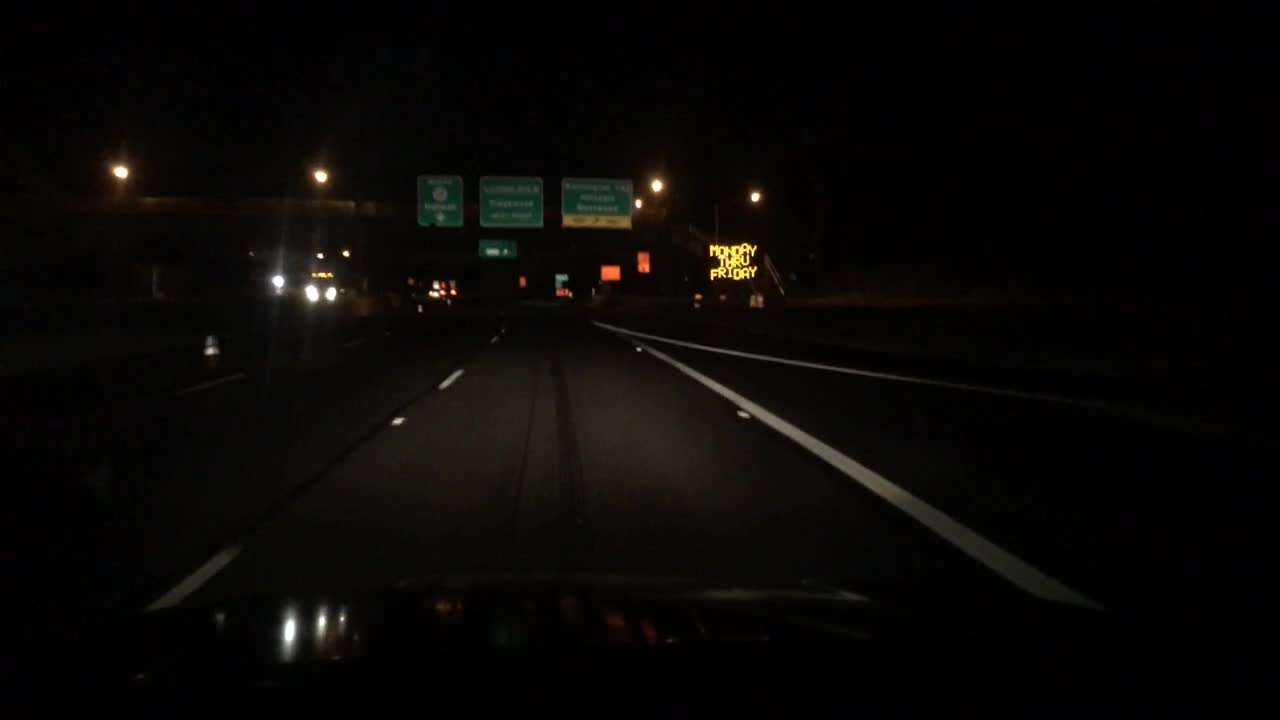car: (425, 281, 459, 306), (267, 271, 287, 291)
traffic sign: (561, 177, 632, 229), (479, 174, 540, 226), (416, 174, 459, 226), (477, 239, 512, 255), (636, 249, 649, 274), (600, 263, 619, 280), (554, 274, 567, 295), (517, 275, 528, 288)
truck: (303, 267, 338, 303)
